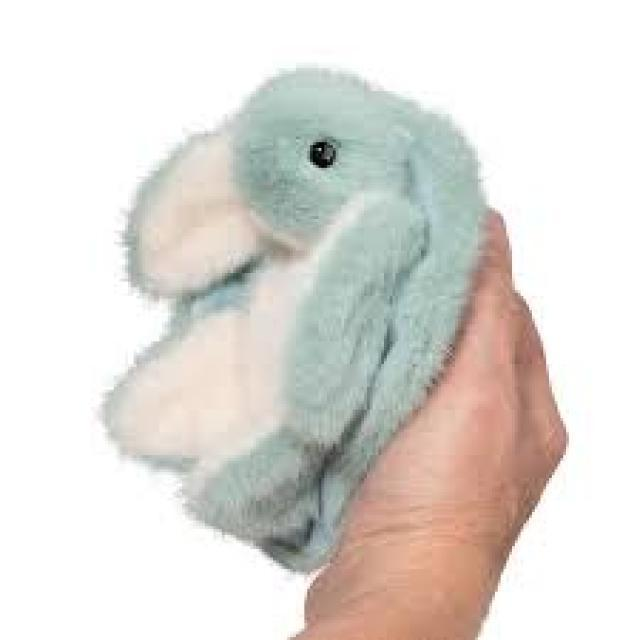soft-toy: (106, 69, 487, 572)
